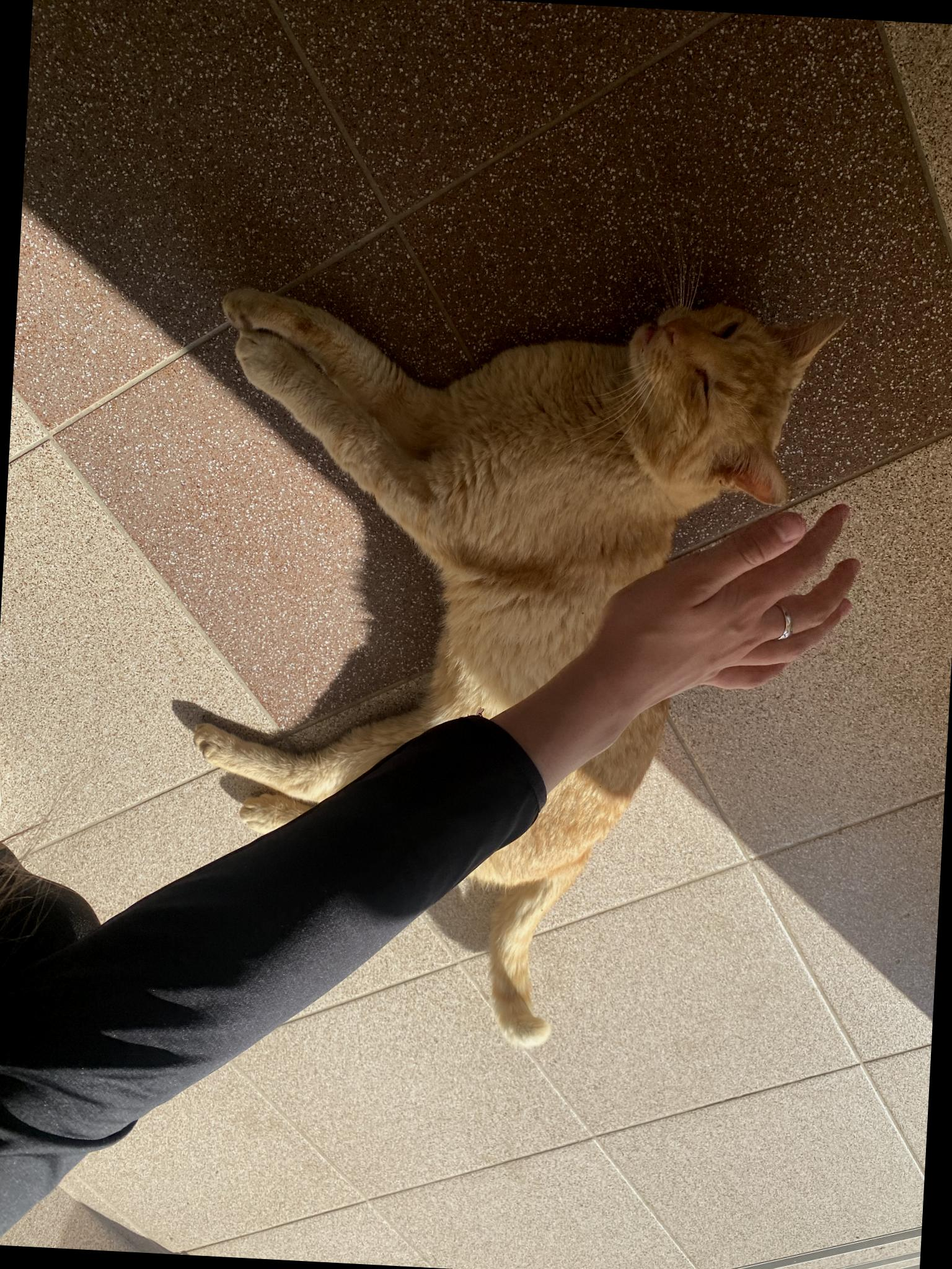macka: (183, 273, 854, 1065)
